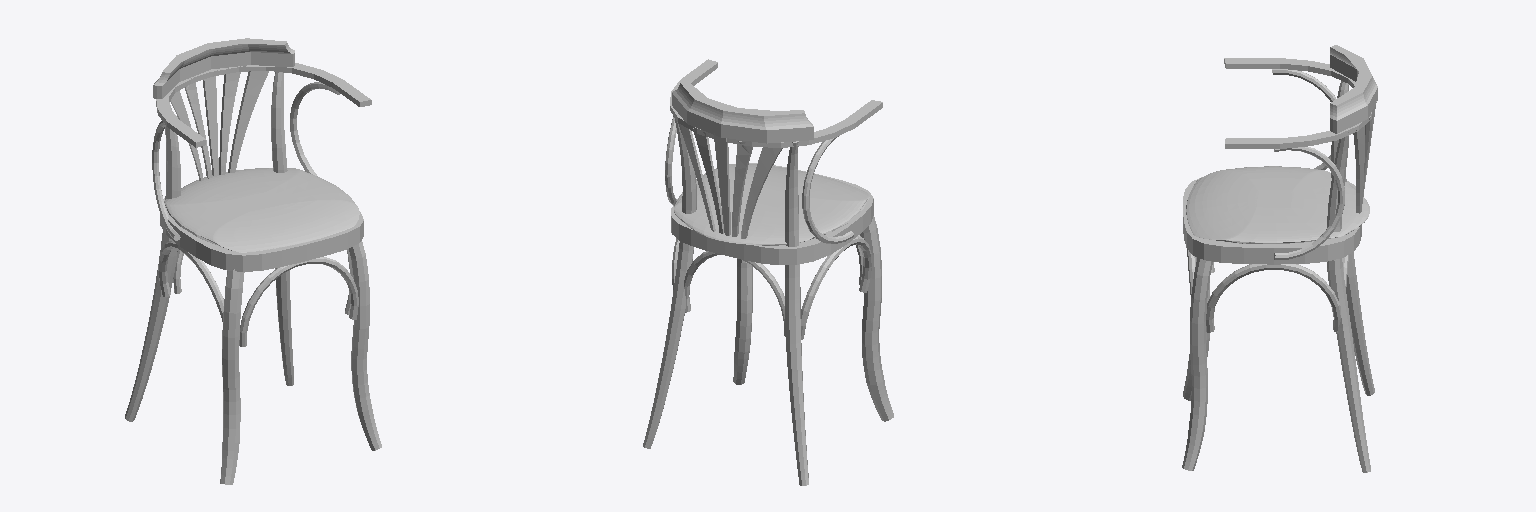
Rendered from demo.obj.
The picture shows the model from 3 angles: view 1: azimuth 30°, elevation 25°; view 2: azimuth 150°, elevation 25°; view 3: azimuth 270°, elevation 25°; orthographic projection.
Visible parts, largest first — view 1: ChamferBox01, Rectangle02, Loft01, Loft12, Loft09, Loft11, Loft08, Loft13, Loft10, Loft05, Loft02, Loft07 (+1 smaller); view 2: ChamferBox01, Rectangle02, Loft12, Loft11, Loft01, Loft10, Loft09, Loft13, Loft08, Loft02, Loft06, Loft04 (+1 smaller); view 3: ChamferBox01, Loft01, Loft10, Loft08, Loft13, Loft12, Loft11, Loft03, Loft07, Rectangle02, Loft06.
Part boxes in pixels (x1,y1,x2,y2): ChamferBox01: (164, 168, 359, 252); Rectangle02: (170, 71, 268, 180); Loft01: (160, 198, 363, 271); Loft12: (153, 38, 294, 98); Loft09: (220, 269, 244, 484); Loft11: (125, 105, 180, 421); Loft08: (348, 241, 381, 450); Loft13: (156, 63, 371, 147); Loft10: (271, 72, 293, 385); Loft05: (239, 257, 358, 346); Loft02: (158, 241, 223, 321); Loft07: (290, 82, 339, 175); ChamferBox01: (674, 164, 869, 245); Rectangle02: (678, 123, 782, 238); Loft12: (672, 82, 813, 143); Loft11: (785, 141, 808, 485); Loft01: (671, 163, 873, 264); Loft10: (643, 119, 696, 448); Loft09: (860, 216, 893, 421); Loft13: (670, 59, 882, 147); Loft08: (733, 259, 752, 384); Loft02: (801, 236, 871, 339); Loft06: (802, 136, 853, 243); Loft04: (684, 251, 785, 336); ChamferBox01: (1186, 166, 1369, 243); Loft01: (1183, 177, 1361, 264); Loft10: (1327, 132, 1370, 472); Loft08: (1182, 257, 1212, 470); Loft13: (1224, 58, 1373, 148); Loft12: (1330, 45, 1377, 133); Loft11: (1331, 81, 1374, 395); Loft03: (1206, 264, 1340, 332); Loft07: (1274, 147, 1344, 259); Rectangle02: (1353, 101, 1376, 213); Loft06: (1272, 69, 1335, 169).
Size of the model in its own units: 13633 by 26622 by 13204.